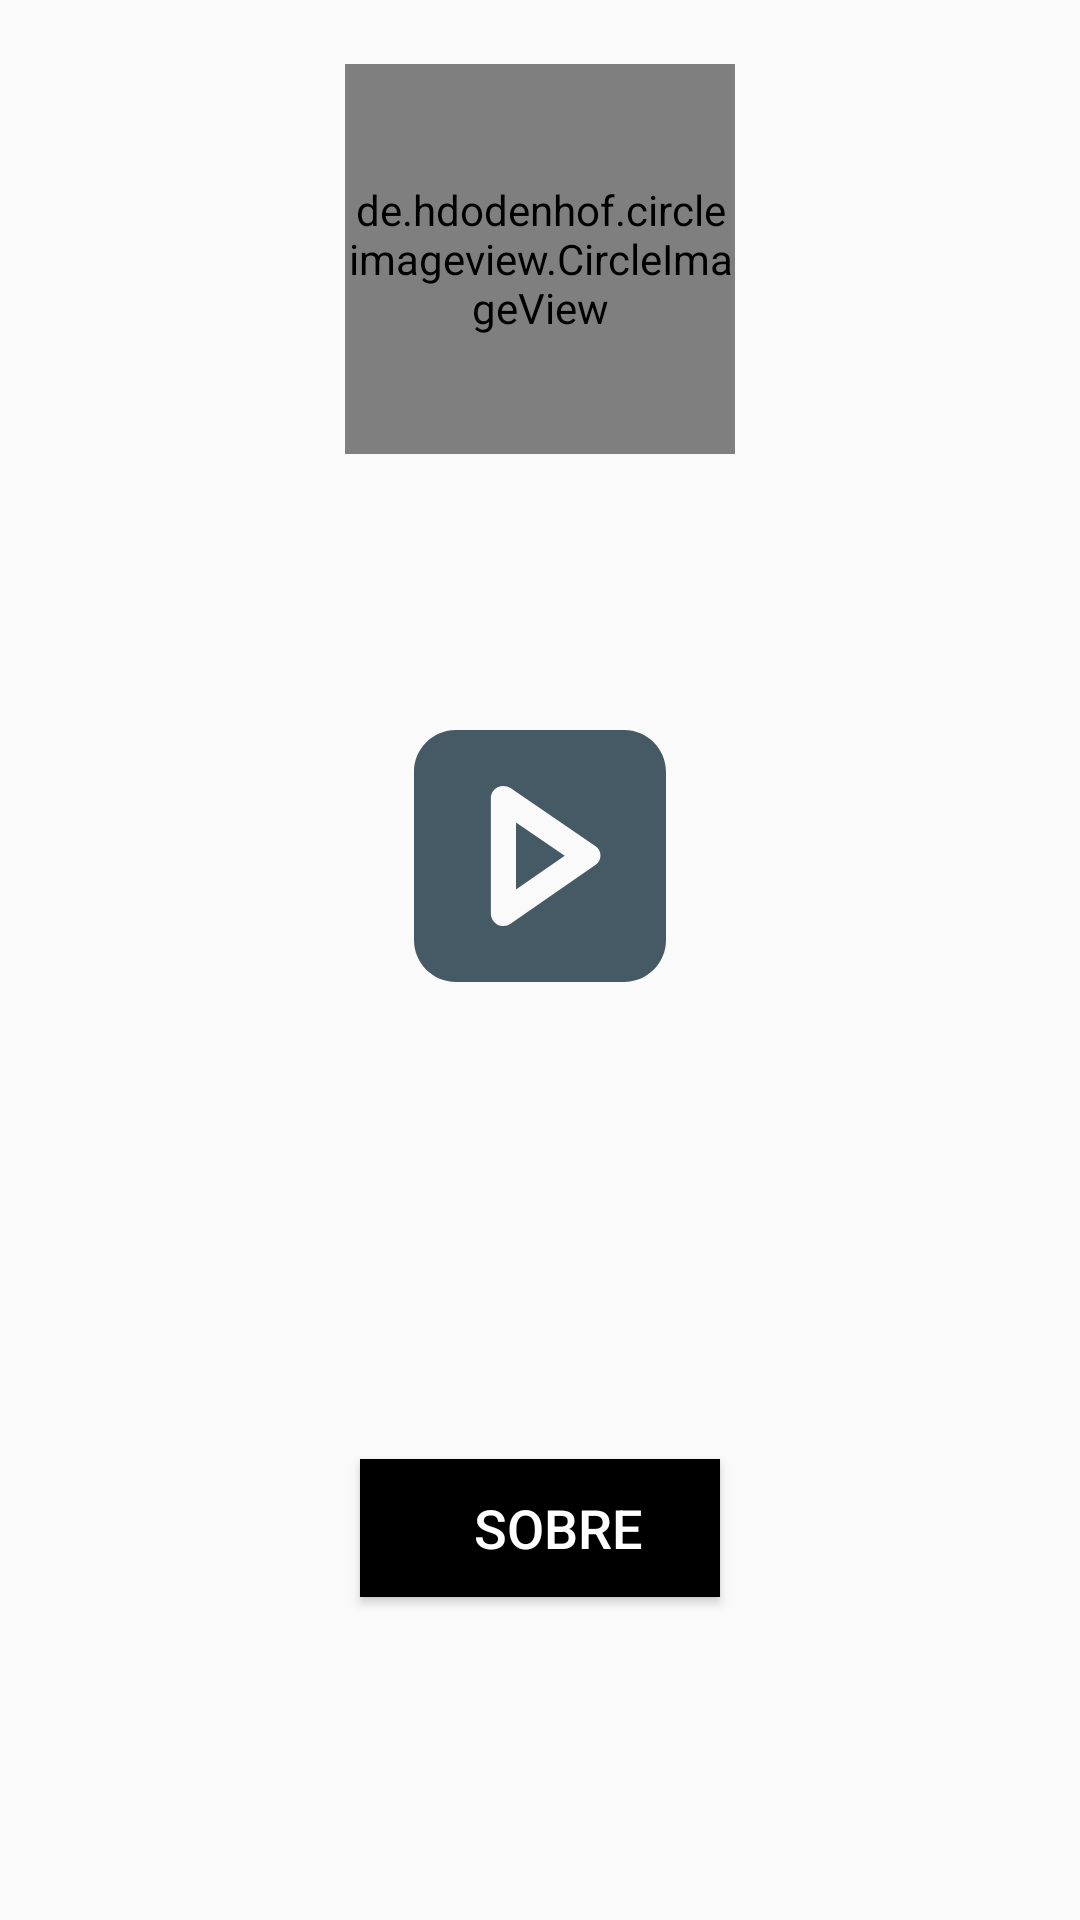

Icons on this 1080x1920 Android screen, each with its box as box(x1, y1, x2, y2):
start: box(414, 730, 666, 982)
